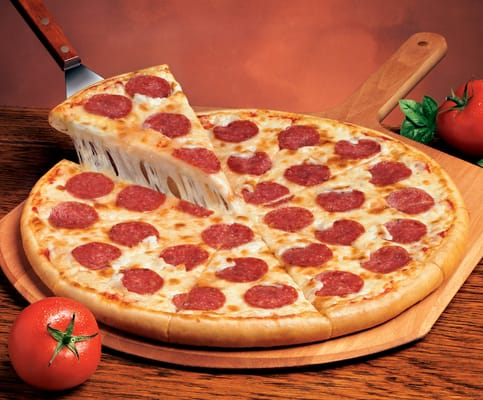sandwich: (13, 1, 105, 101)
